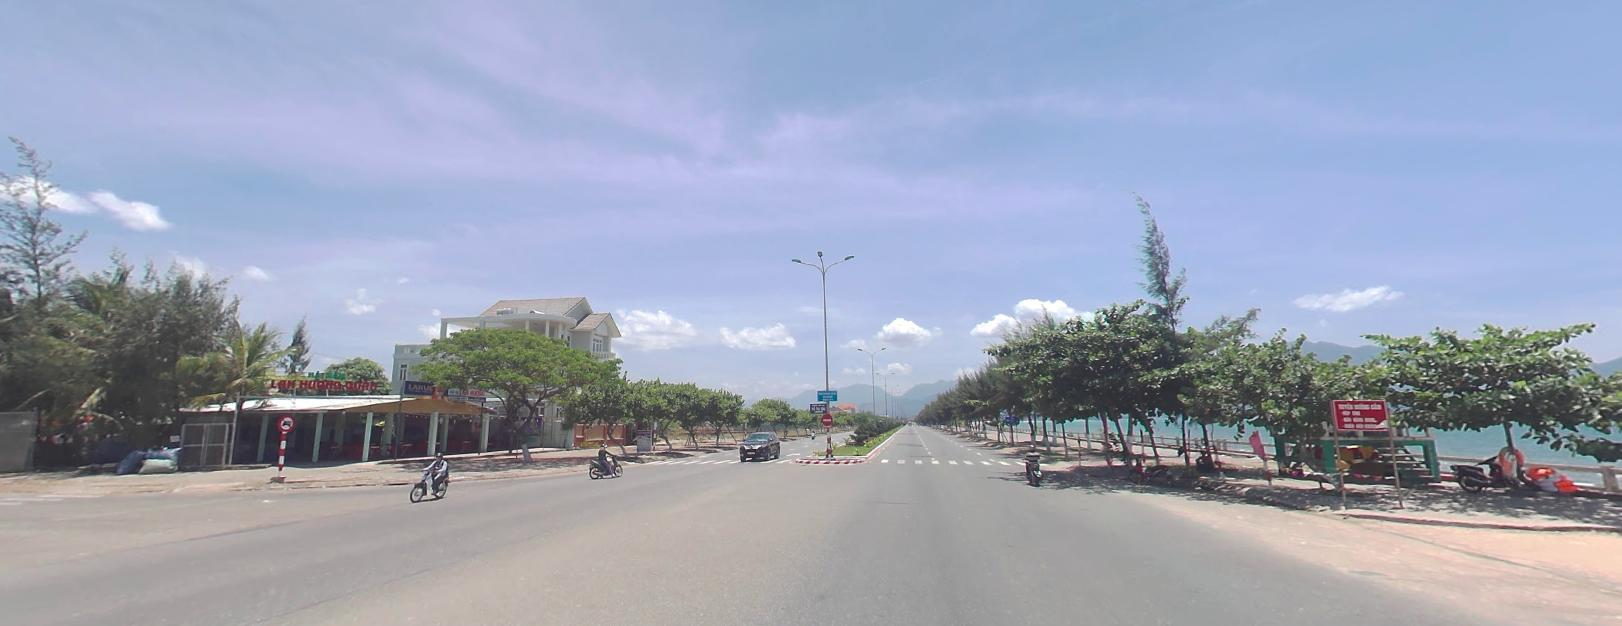Cam con lai: (278, 413, 293, 429)
Cam nguoc chieu: (821, 412, 832, 424)
